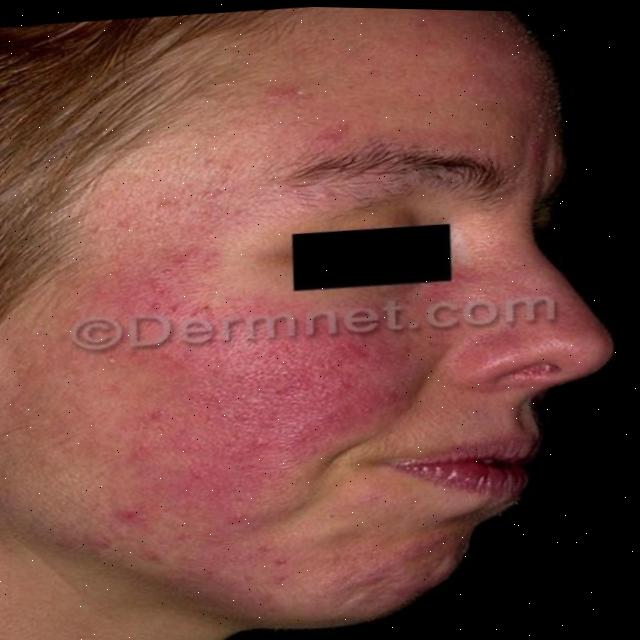Rosacea: (80, 222, 423, 566), (267, 63, 360, 157), (448, 315, 543, 382)
